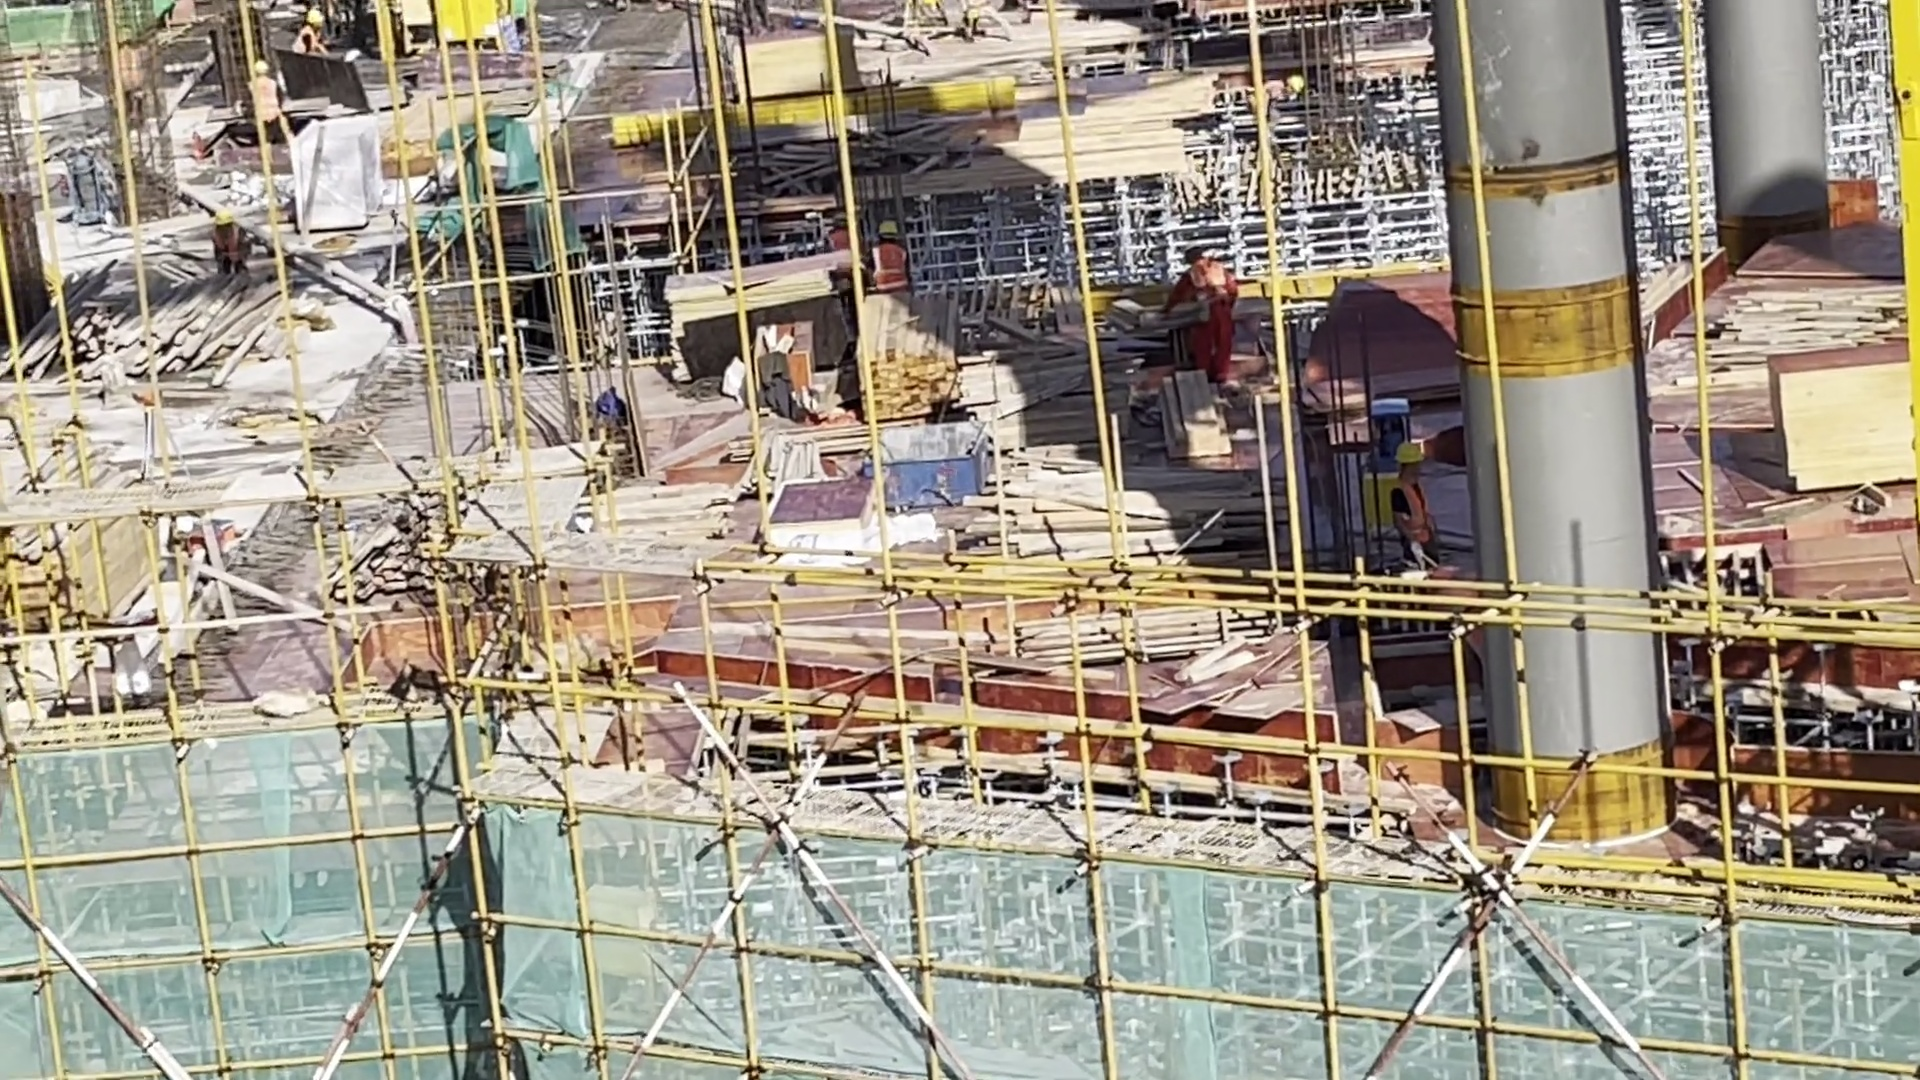helmet: (207, 213, 233, 242), (253, 56, 273, 88), (306, 8, 325, 31)
person: (1165, 244, 1252, 379), (1377, 429, 1451, 578), (863, 219, 911, 300), (828, 212, 874, 296), (201, 216, 260, 280), (246, 61, 284, 144), (293, 7, 336, 54)
vest: (1389, 483, 1435, 551), (1180, 262, 1227, 306), (873, 245, 909, 289)
